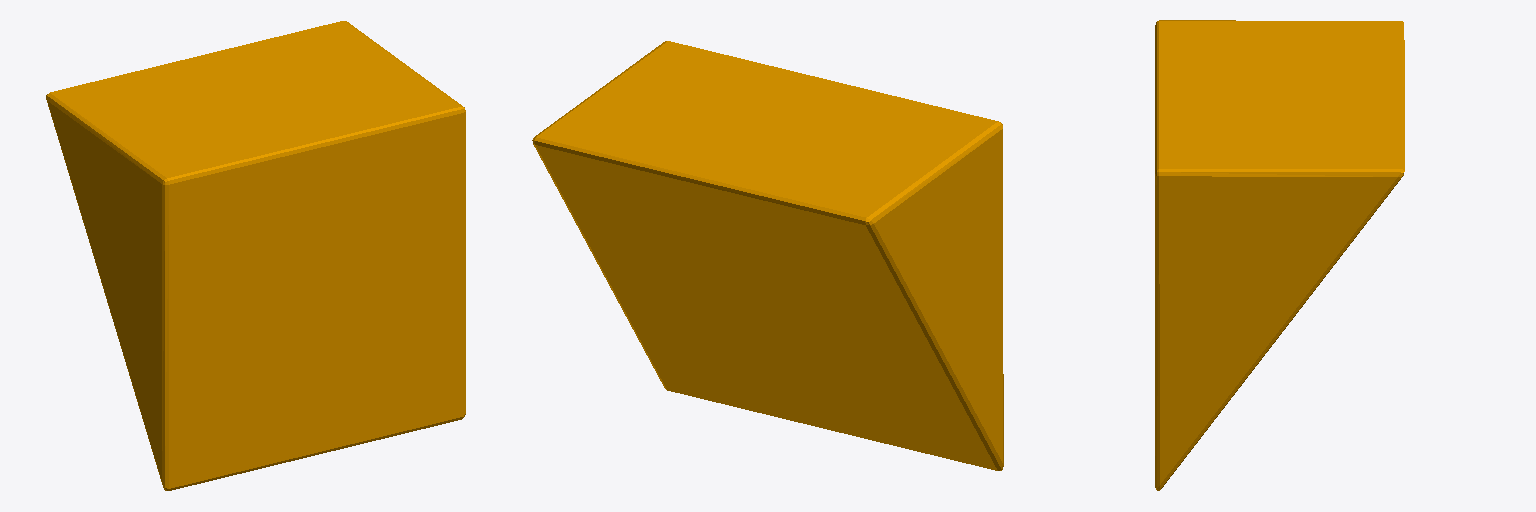
The robot description file, URDF, robot "object":
<?xml version="1.0"?>
<robot name="object">
  <link name="object">
    <visual>
      <origin xyz="0 0 0"/>
      <geometry>
        <mesh filename="blue_ramp.obj" scale="1 0.7 1"/>
      </geometry>
    </visual>
    <collision>
      <origin xyz="0 0 0"/>
      <geometry>
        <mesh filename="blue_ramp.obj" scale="1 0.7 1"/>
      </geometry>
    </collision>

  </link>
</robot>

--- Facts derived from the render (not from the file) ---
Views: 3 orthographic renders of the robot side by side, from view 1: azimuth 30°, elevation 25°; view 2: azimuth 150°, elevation 25°; view 3: azimuth 270°, elevation 25°.
Robot: object — 1 links, 0 joints (none); root link object; default pose: every joint at zero.
Visible links, largest first — view 1: object; view 2: object; view 3: object.
Boxes of the visible links, left/top/right/bottom form: object: left=46, top=21, right=465, bottom=490; object: left=532, top=41, right=1003, bottom=470; object: left=1155, top=20, right=1404, bottom=490.
Bounding box of the posed robot: 2 × 1.38 × 1.97 m (x, y, z).
Meshes: 1 distinct files referenced, 1 mesh visuals loaded (1 OBJ).
